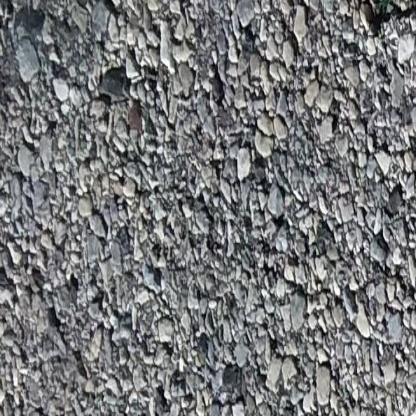Cracks: (330, 0, 416, 48)
